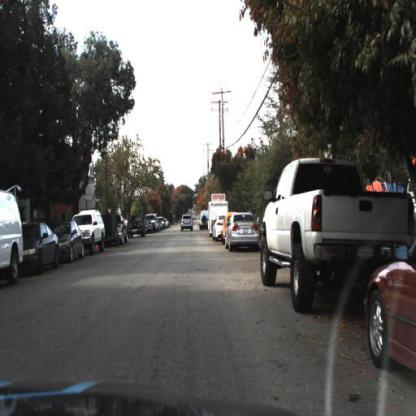car: (255, 148, 416, 312), (363, 237, 416, 387), (18, 219, 61, 276), (1, 190, 24, 287), (52, 218, 88, 265), (224, 210, 262, 252), (73, 207, 105, 256), (177, 215, 196, 236)
